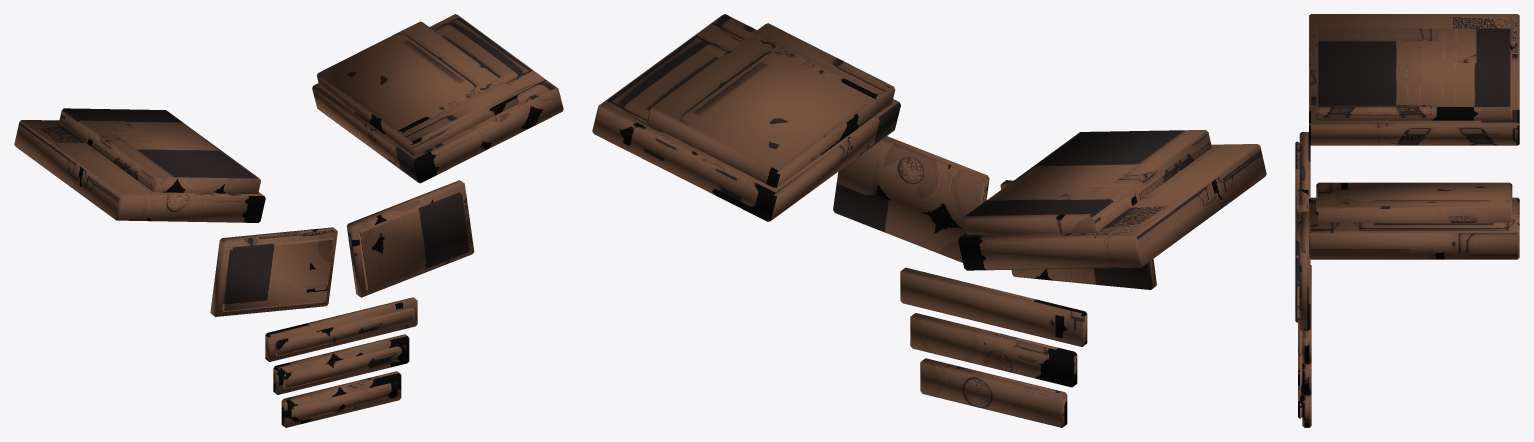
File: Remache_Arnes_Oxido.fbx
The picture shows the model from 3 angles, left to right: view 1: azimuth 30°, elevation 25°; view 2: azimuth 150°, elevation 25°; view 3: azimuth 270°, elevation 25°; orthographic projection. The views are drawn at different scales.
Visible parts, largest first — view 1: Remache_Arnes_Oxido; view 2: Remache_Arnes_Oxido; view 3: Remache_Arnes_Oxido.
Boxes of the visible parts, bbox=[...] form: Remache_Arnes_Oxido: bbox=[14, 14, 563, 427]; Remache_Arnes_Oxido: bbox=[592, 14, 1266, 427]; Remache_Arnes_Oxido: bbox=[1295, 14, 1519, 427].
Bounding box in the file's own units: 5.11 × 3 × 2.17.
